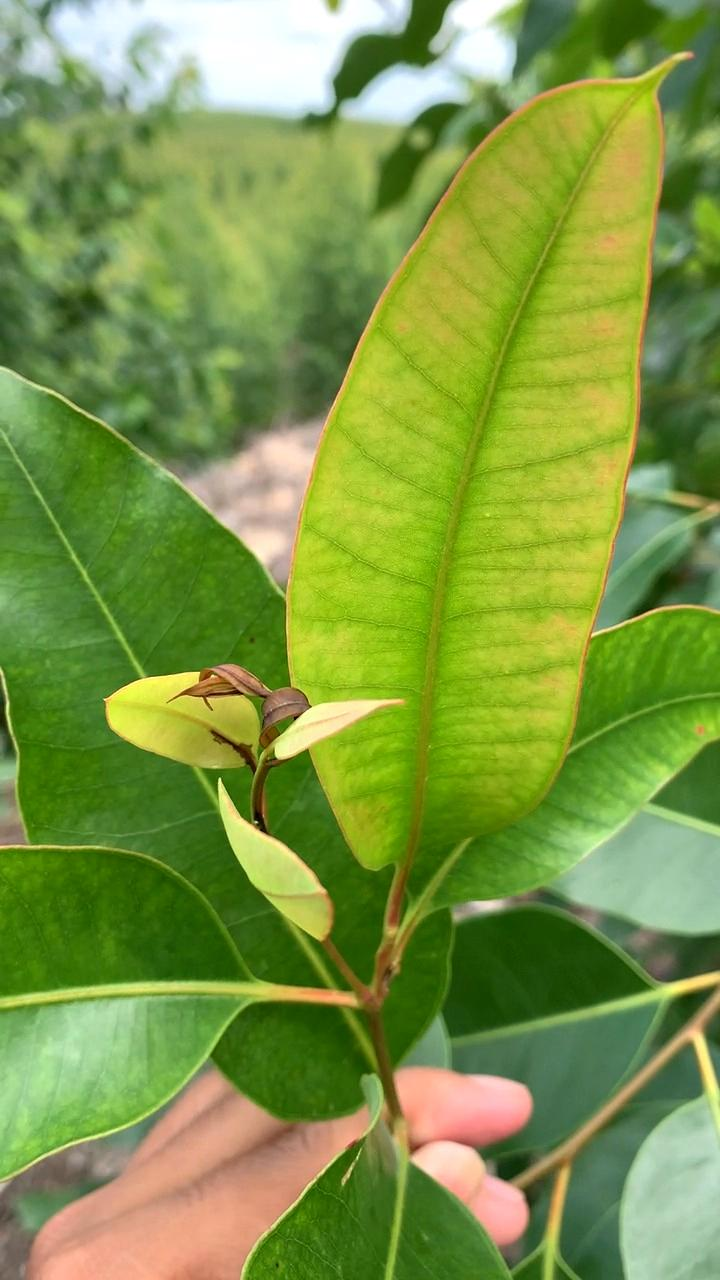Helopeltis-Withered Sprout: (167, 644, 357, 787)
